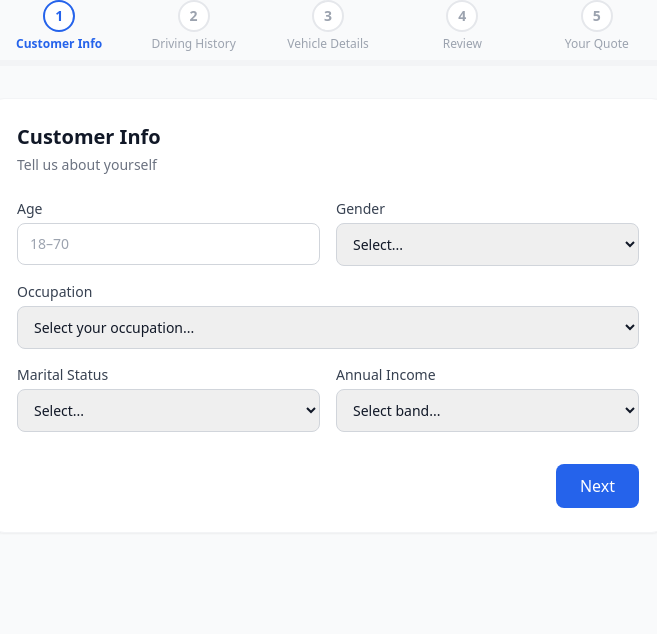
Test: QuoteWizardV2 — Step 0: Customer Information › Zod validation › blocks Next when age is missing
Click the button "Next": [597, 486] box [556,464,639,508]
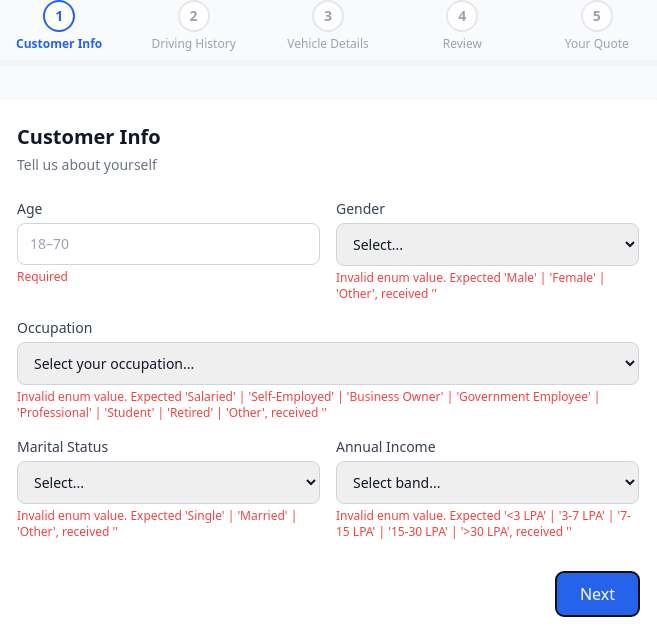
expect the text "Required" is shown: met, box [17,268,68,285]
